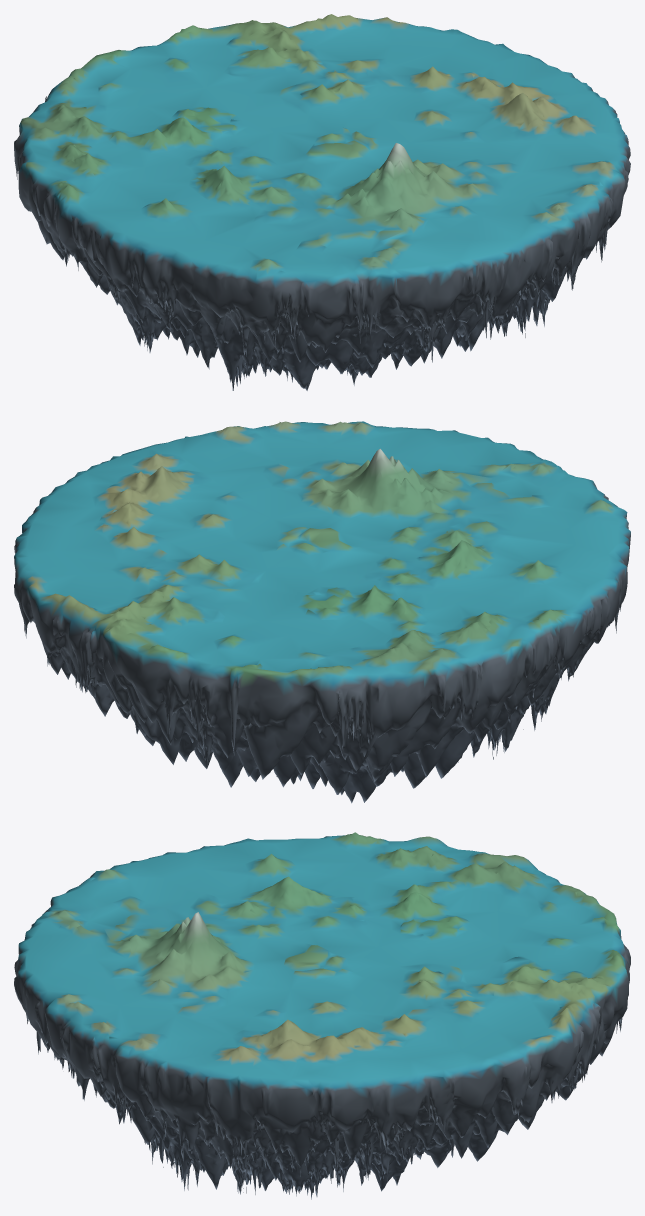
File: celestial_world_runtime.glb
3 renders of one model, top to bottom at view 1: azimuth 30°, elevation 25°; view 2: azimuth 150°, elevation 25°; view 3: azimuth 270°, elevation 25°, orthographic. The views are drawn at different scales.
Visible parts, largest first — view 1: world; view 2: world; view 3: world.
Part boxes in pixels (x1,y1,x2,y2): world: (14, 14, 630, 390); world: (14, 421, 630, 803); world: (14, 832, 630, 1199).
Size of the model in its own units: 14.35 by 6.22 by 14.79.
